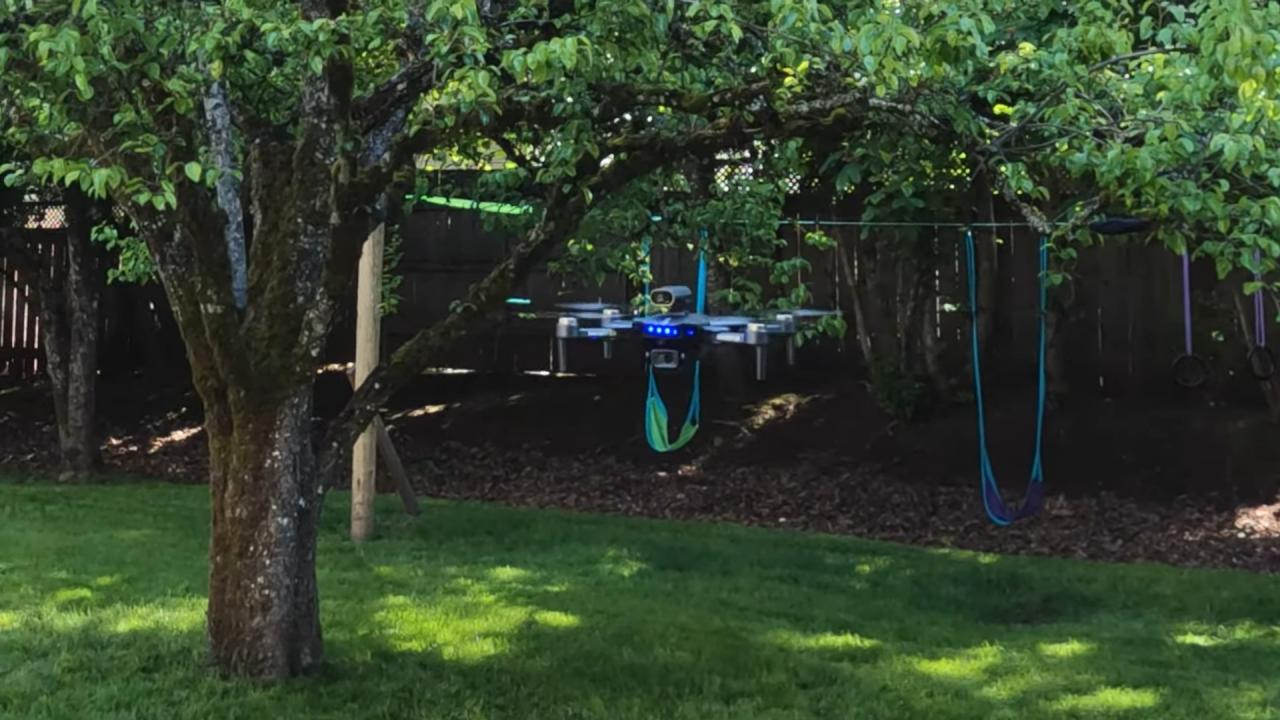Drone: (497, 274, 857, 382)
